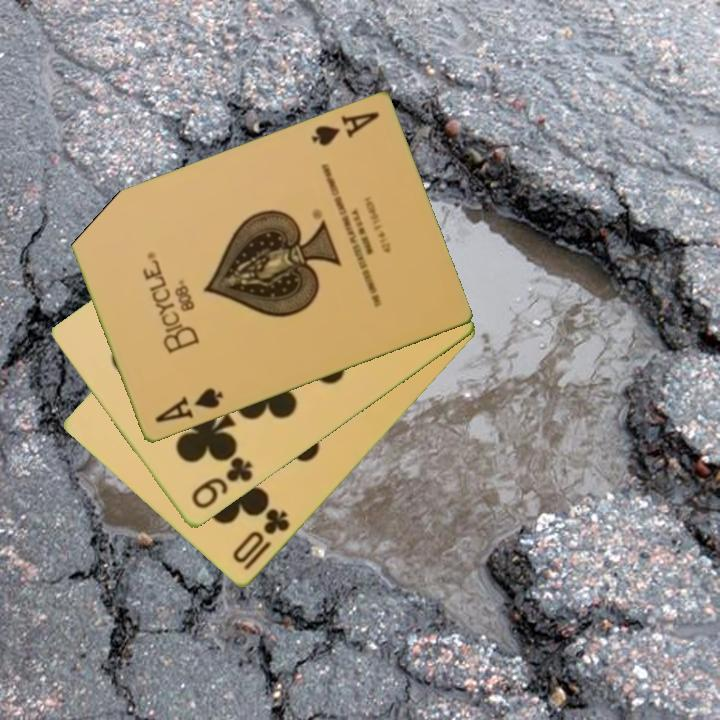10c: (229, 505, 293, 574)
9c: (187, 454, 256, 513)
As: (151, 384, 226, 427), (307, 108, 382, 150)
